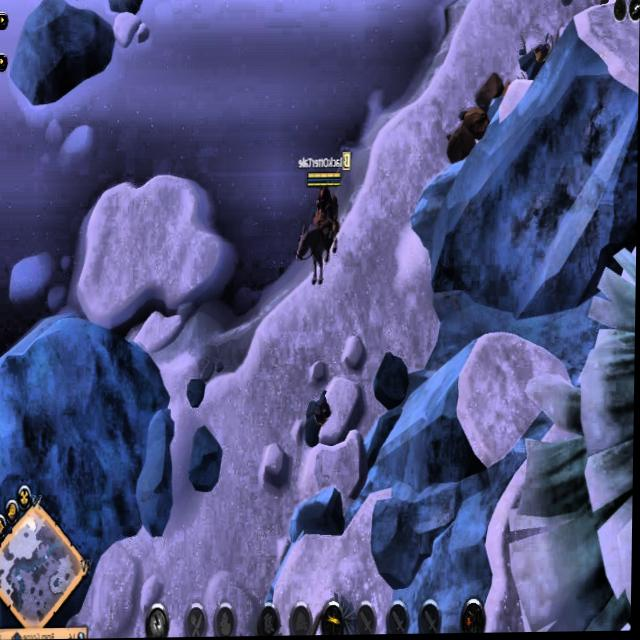copperore: (516, 35, 556, 82), (304, 387, 338, 440)
limestone: (448, 106, 492, 166), (473, 68, 511, 116)
